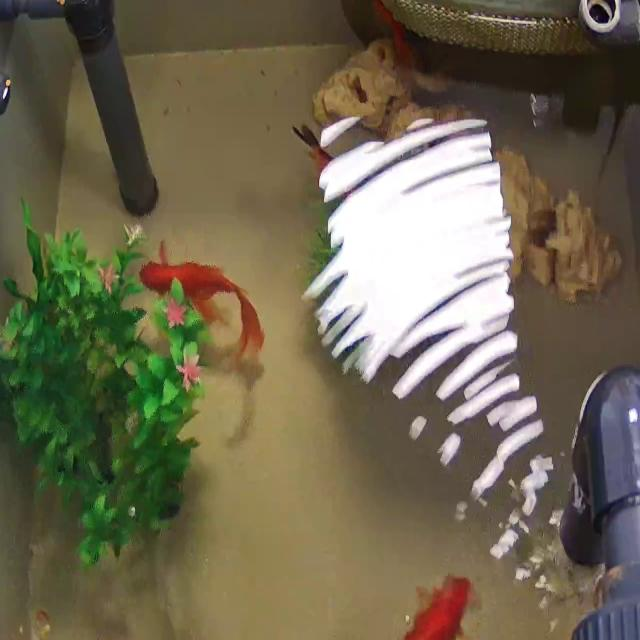fish: (138, 237, 264, 357), (375, 574, 473, 640), (369, 0, 421, 69), (298, 120, 332, 181)
